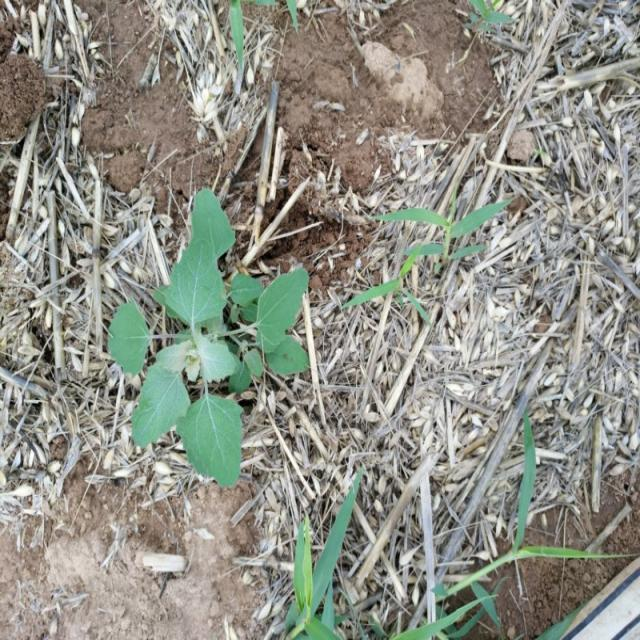goosefoots: (100, 195, 324, 477)
